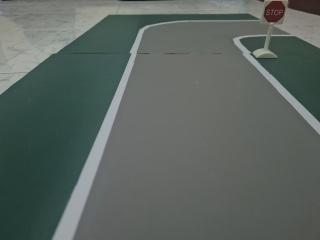stop: (261, 0, 293, 29)
